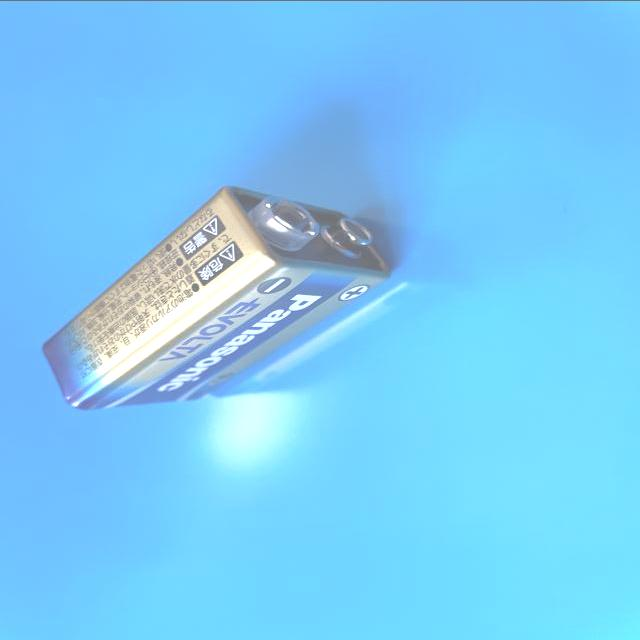9V: (41, 185, 390, 410)
